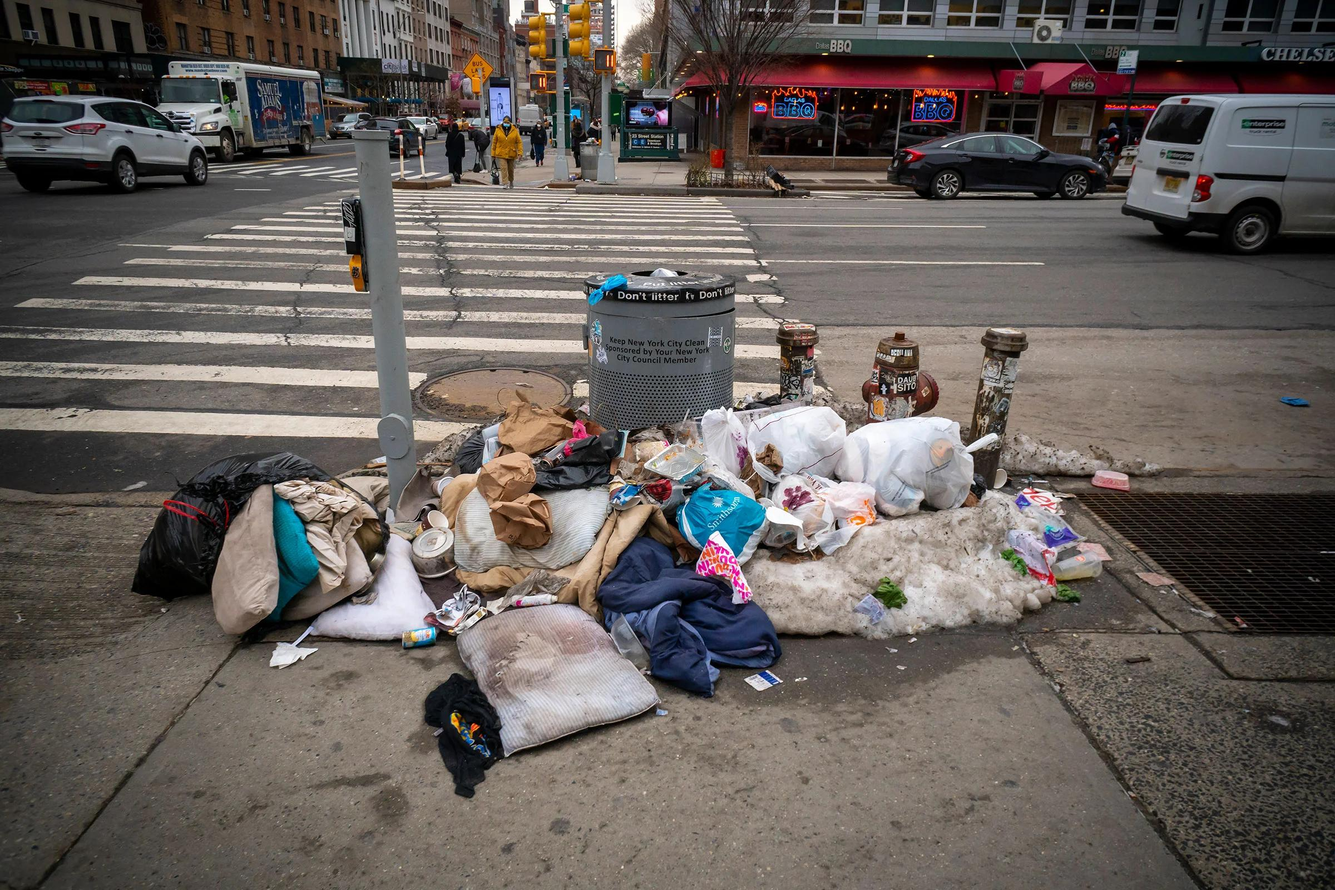garbage: (87, 252, 1140, 784)
